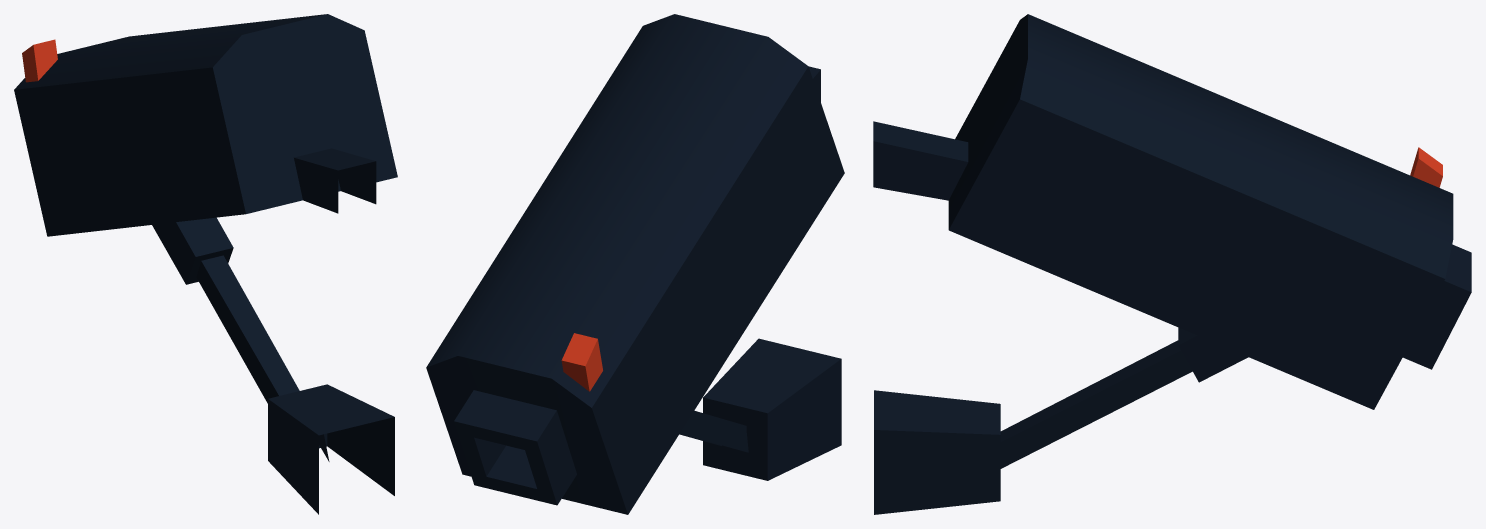
The model's file is Camera.FBX.
The picture shows the model from 3 angles, left to right: view 1: azimuth 30°, elevation 25°; view 2: azimuth 150°, elevation 25°; view 3: azimuth 270°, elevation 25°; orthographic projection. The views are drawn at different scales.
Parts seen in each view (by area): view 1: Camera; view 2: Camera; view 3: Camera.
Part boxes in pixels (bbox=[...]): Camera: bbox=[14, 14, 397, 514]; Camera: bbox=[426, 14, 844, 514]; Camera: bbox=[873, 14, 1471, 514].
Size of the model in its own units: 0.2 by 0.5391 by 0.6374.
